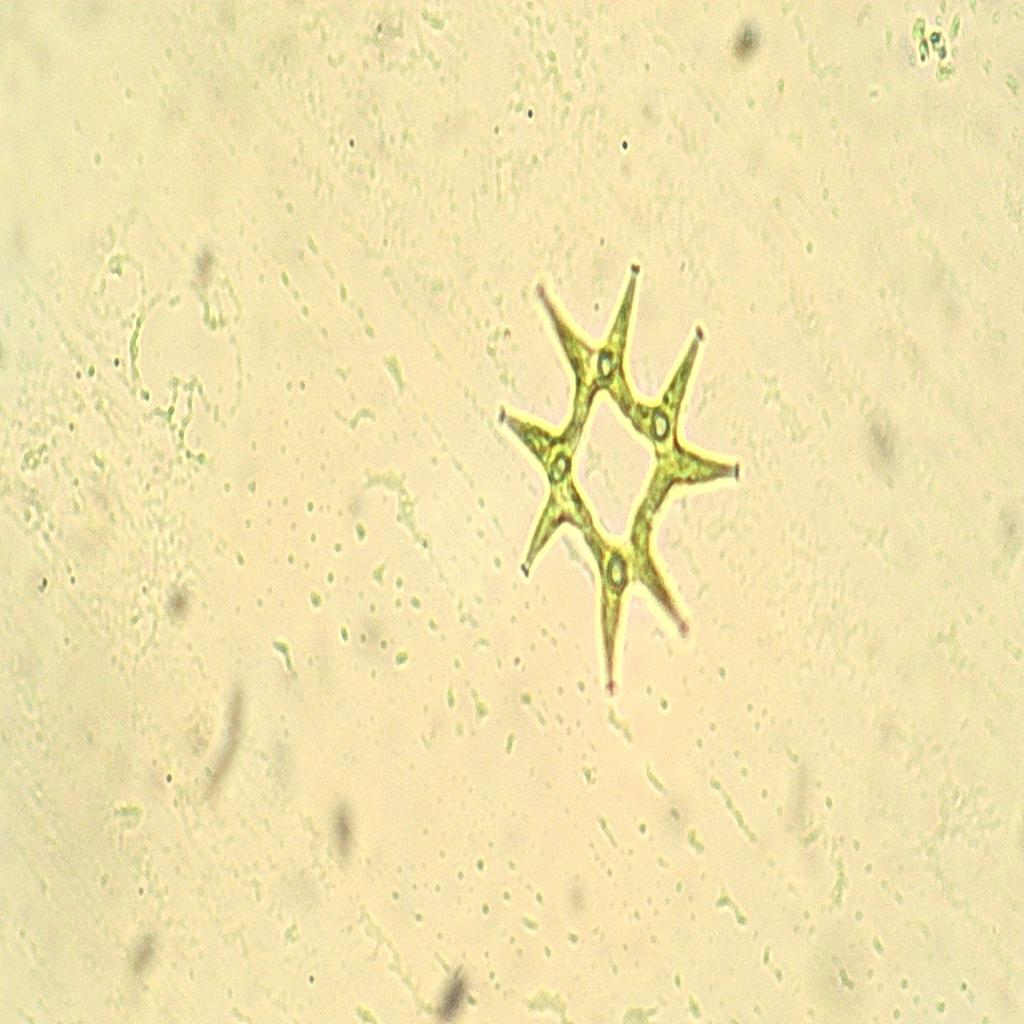Pediastrum_75O: (493, 249, 748, 720)
